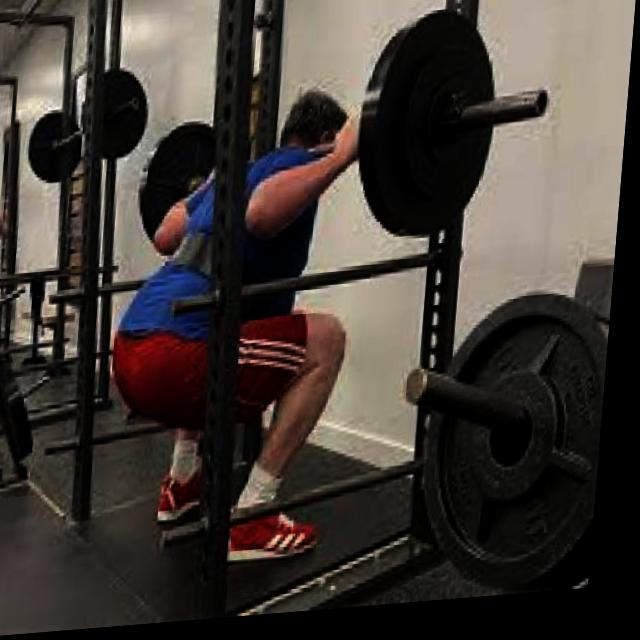barbell: (360, 9, 562, 254)
